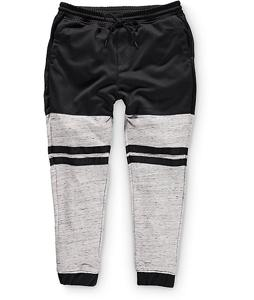C_W_pants: (41, 1, 201, 290)
